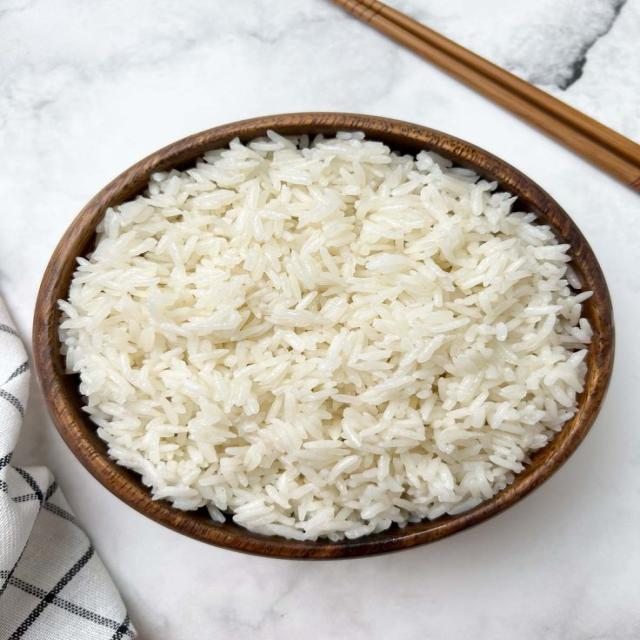rice: (60, 132, 591, 540)
